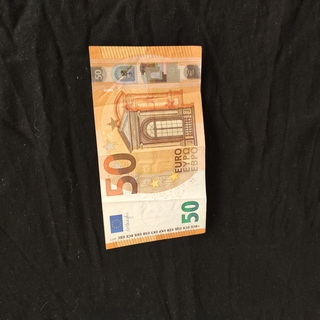50EUROFront: (87, 44, 208, 251)
